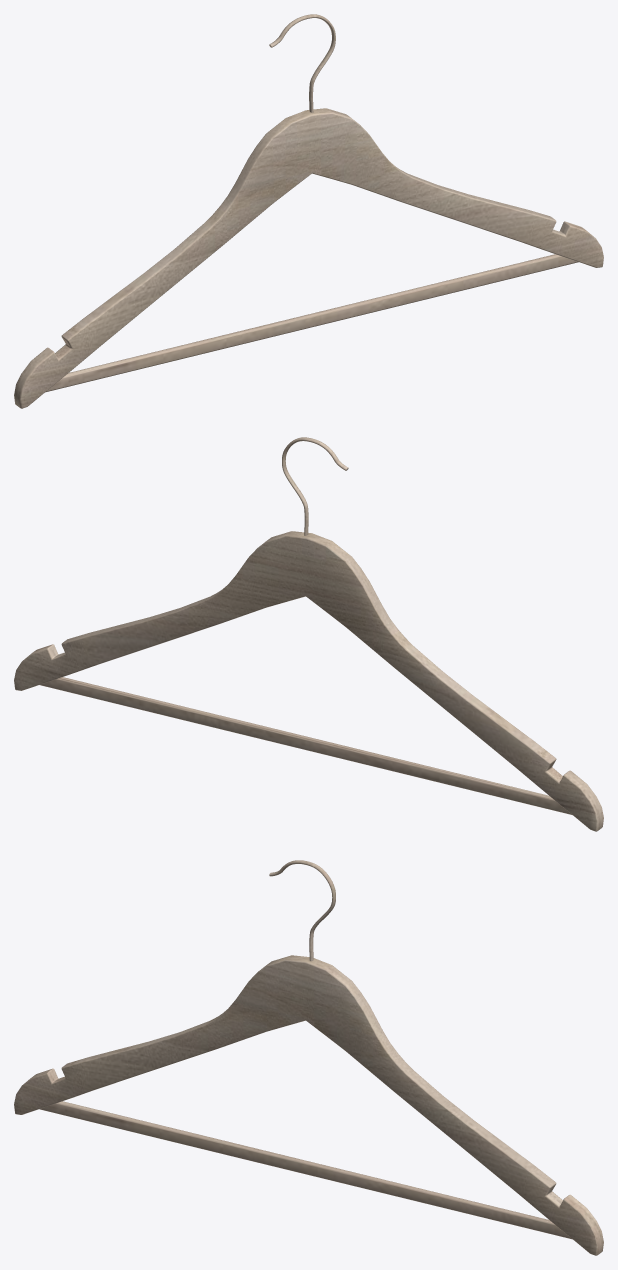
3 renders of one model, top to bottom at view 1: azimuth 30°, elevation 25°; view 2: azimuth 150°, elevation 25°; view 3: azimuth 330°, elevation 25°, orthographic.
Visible parts, largest first — view 1: BezierCurve; view 2: BezierCurve; view 3: BezierCurve.
Boxes of the visible parts, x1,y1,x2,y2 form: BezierCurve: [14, 14, 603, 408]; BezierCurve: [14, 437, 603, 831]; BezierCurve: [14, 860, 603, 1255].
Bounding box in the file's own units: 449 × 236 × 9.33.
1 material, 1 textured.
